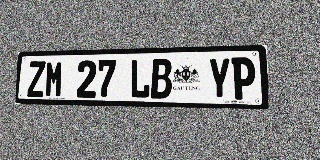2: (77, 60, 96, 98)
7: (96, 60, 116, 98)
B: (151, 59, 172, 99)
L: (130, 59, 150, 98)
M: (45, 61, 64, 97)
P: (231, 57, 256, 100)
Y: (208, 58, 231, 99)
Z: (27, 61, 46, 97)
